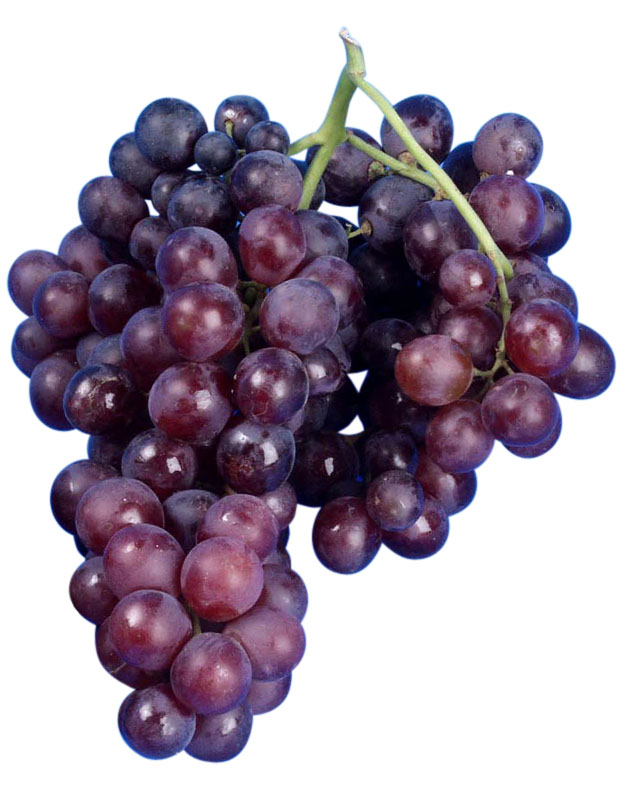Black grapes: (6, 53, 593, 778)
